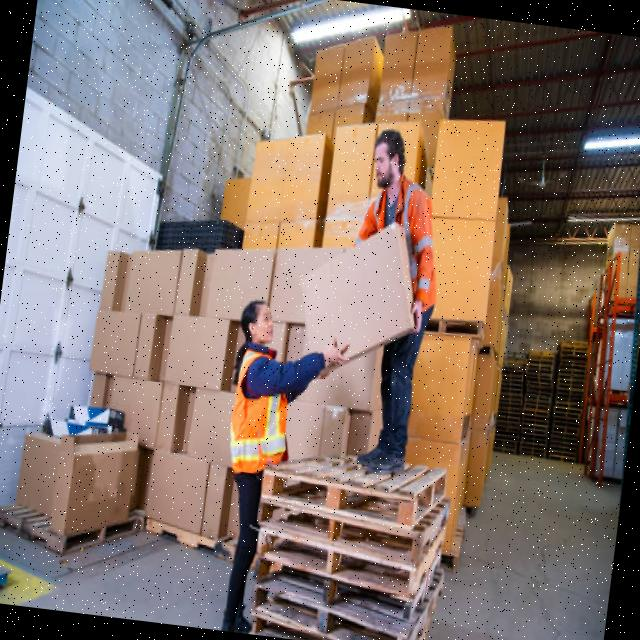Wooden-Pallets: (254, 520, 453, 611), (252, 495, 453, 569), (262, 467, 451, 532), (0, 505, 146, 563)
